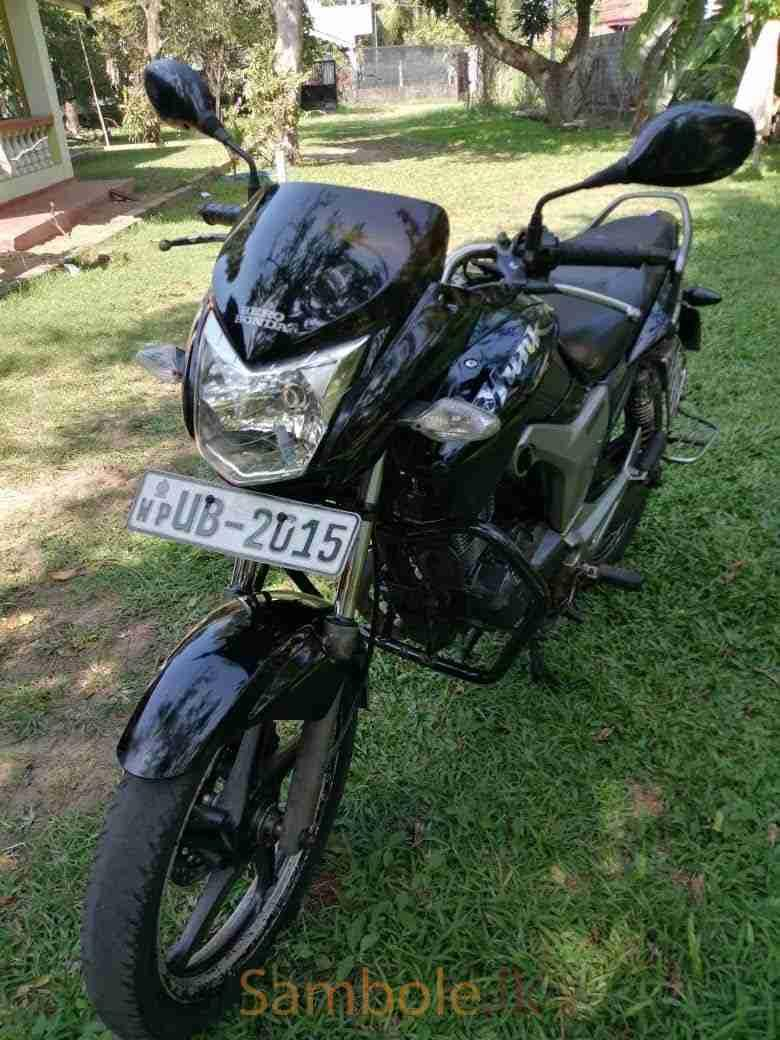motorbike: (79, 57, 754, 1037)
